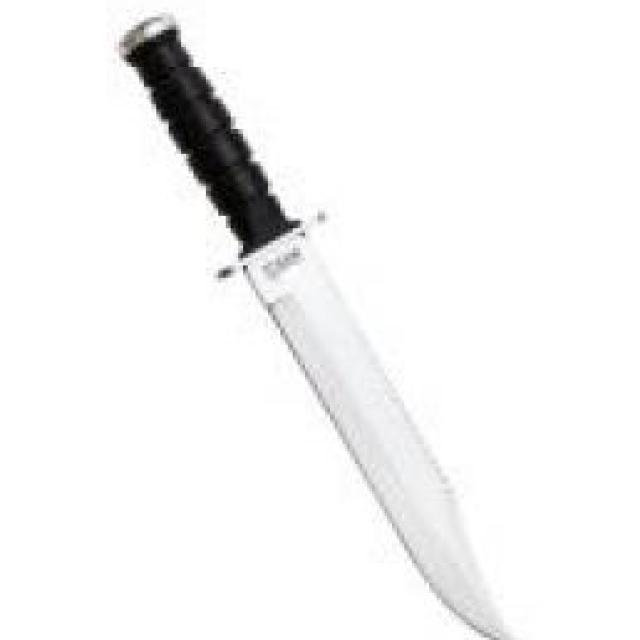knife: (119, 10, 519, 640)
